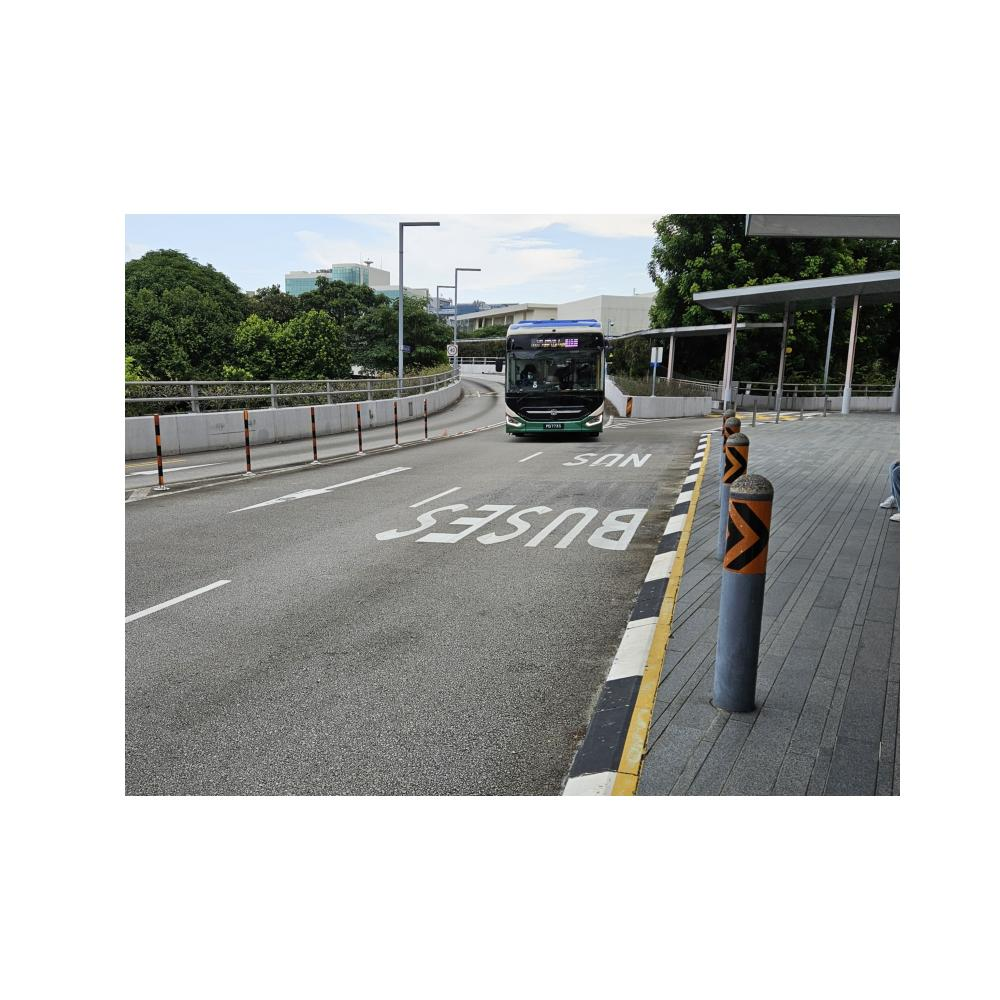bus: (498, 320, 612, 442)
